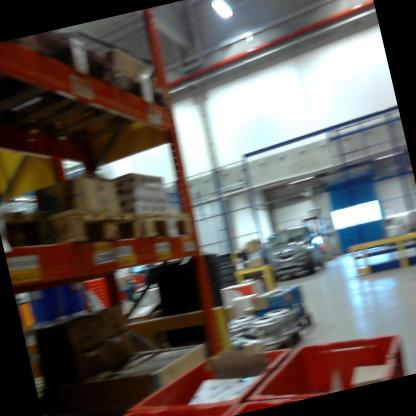pallet: (15, 37, 190, 175), (0, 21, 128, 136), (2, 182, 153, 274), (136, 192, 211, 248), (240, 321, 308, 363), (280, 306, 314, 337)
small_load_carrier: (238, 311, 416, 409), (134, 328, 309, 416), (85, 382, 241, 416)
